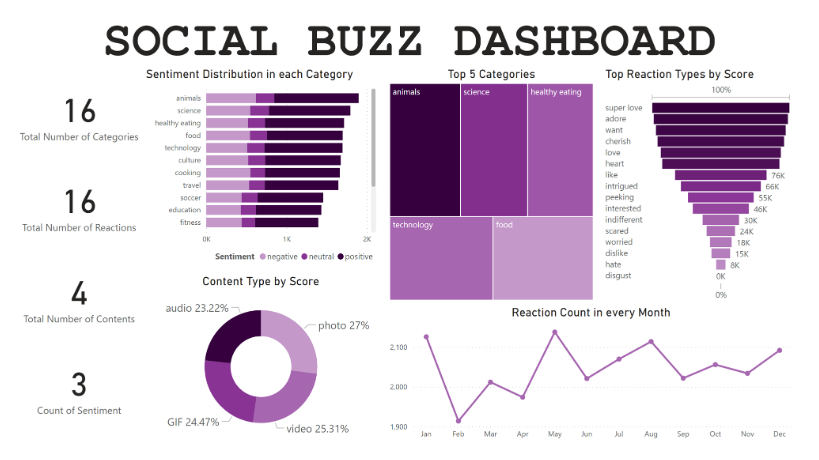

This screenshot's page, from the dashboard's own definition file:
{"tool":"powerbi","page":{"name":"Page 1","canvas":[1280,720],"ordinal":0},"visuals":[{"type":"textbox","box":[138.2,0,1035.4,102.2],"z":0},{"type":"card","fields":{"Values":["Count(Task 3_Final Content Data set.Category)"]},"box":[0,90.7,208.8,149.8],"z":1000},{"type":"card","fields":{"Values":["Count(Task 3_Final Content Data set.Reaction Type)"]},"box":[0,240.5,208.8,149.8],"z":2000},{"type":"card","fields":{"Values":["Count(Task 3_Final Content Data set.Content Type)"]},"box":[0,390.2,208.8,149.8],"z":3000},{"type":"card","fields":{"Values":["Count(Task 3_Final Content Data set.Sentiment)"]},"box":[0,540,208.8,149.8],"z":6000},{"type":"pieChart","title":"Content Type by Score","fields":{"Category":["Task 3_Final Content Data set.Content Type"],"Y":["Sum(Task 3_Final Content Data set.Score)"]},"box":[208.8,430.6,387.4,280.8],"z":7000},{"type":"treemap","title":"Top 5 Categories","fields":{"Values":["Sum(Task 3_Final Content Data set.Score)"],"Group":["Task 3_Final Content Data set.Category"]},"box":[609.1,90.7,344.2,387.4],"z":8000},{"type":"barChart","title":"Sentiment Distribution in each Category","fields":{"Category":["Task 3_Final Content Data set.Category"],"Y":["CountNonNull(Task 3_Final Content Data set.Content ID)"],"Series":["Task 3_Final Content Data set.Sentiment"]},"box":[208.8,90.7,387.4,329.8],"z":9000},{"type":"lineChart","title":"Reaction Count in every Month","fields":{"Category":["Task 3_Final Content Data set.Month_Name"],"Y":["CountNonNull(Task 3_Final Content Data set.Reaction Type)"]},"box":[609.1,482.4,671,229],"z":11000},{"type":"funnel","title":"Top Reaction Types by Score","fields":{"Category":["Task 3_Final Content Data set.Reaction Type"],"Y":["Sum(Task 3_Final Content Data set.Score)"]},"box":[963.4,90.7,316.8,387.4],"z":13001}]}

Visuals, with their boxes in screenshot pixels (x1, y1, x2, y2), scaled from the page's 1280x720 canvas onto the 819x460 screenshot:
textbox: pyautogui.locateOnScreen(88, 0, 751, 65)
card - Count(Task 3_Final Content Data set.Category): pyautogui.locateOnScreen(0, 58, 134, 154)
card - Count(Task 3_Final Content Data set.Reaction Type): pyautogui.locateOnScreen(0, 154, 134, 249)
card - Count(Task 3_Final Content Data set.Content Type): pyautogui.locateOnScreen(0, 249, 134, 345)
card - Count(Task 3_Final Content Data set.Sentiment): pyautogui.locateOnScreen(0, 345, 134, 441)
"Content Type by Score" pieChart: pyautogui.locateOnScreen(134, 275, 381, 455)
"Top 5 Categories" treemap: pyautogui.locateOnScreen(390, 58, 610, 305)
"Sentiment Distribution in each Category" barChart: pyautogui.locateOnScreen(134, 58, 381, 269)
"Reaction Count in every Month" lineChart: pyautogui.locateOnScreen(390, 308, 818, 455)
"Top Reaction Types by Score" funnel: pyautogui.locateOnScreen(616, 58, 818, 305)
